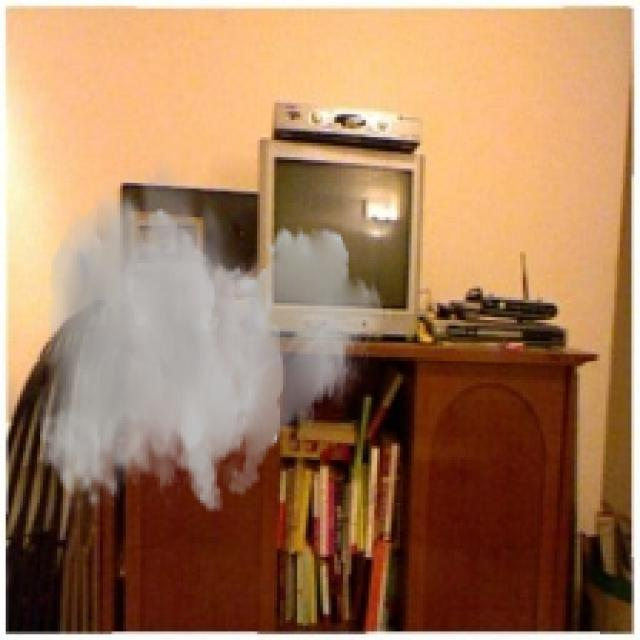smoke: (37, 149, 394, 514)
